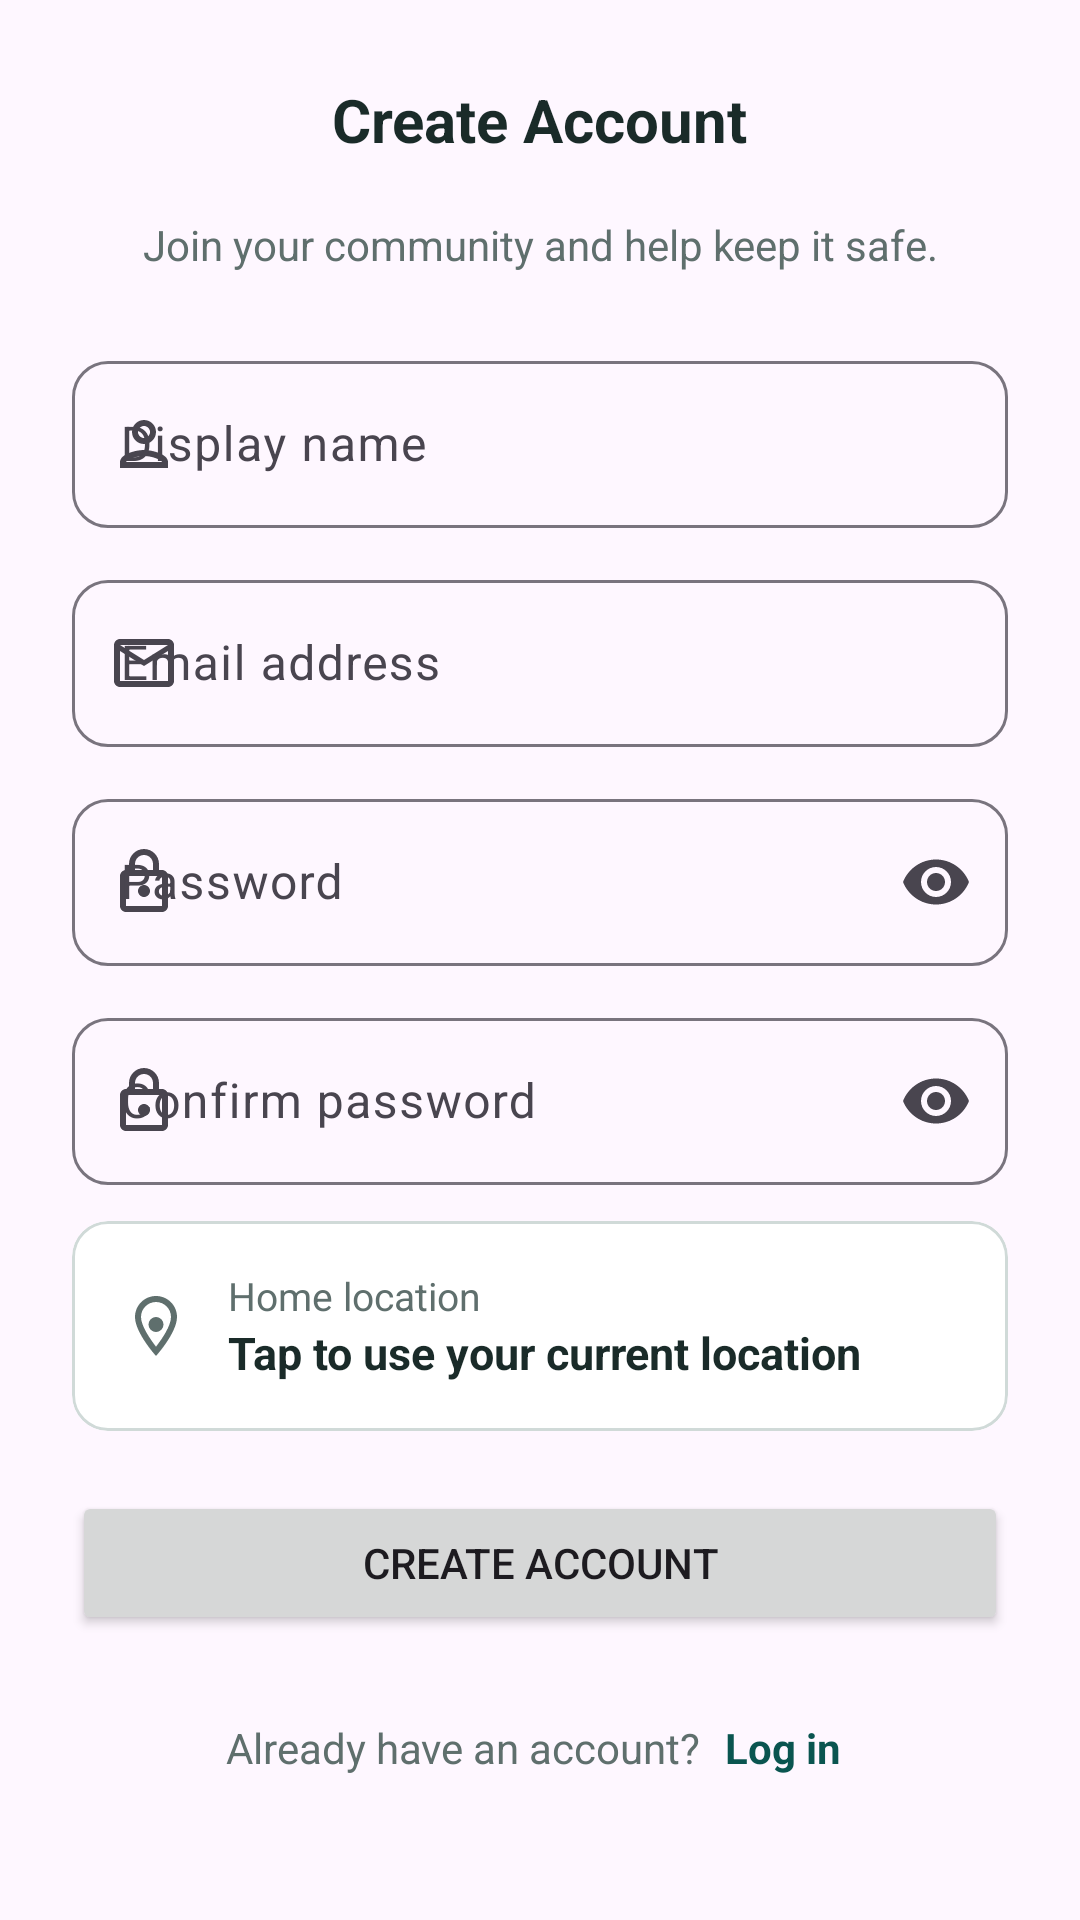

Icons on this 1080w x 1920h Android screen, each with its box as (x1=x1, y1=y1, x2=x2, y2=y2):
location on: (x1=135, y1=1296, x2=177, y2=1356)
